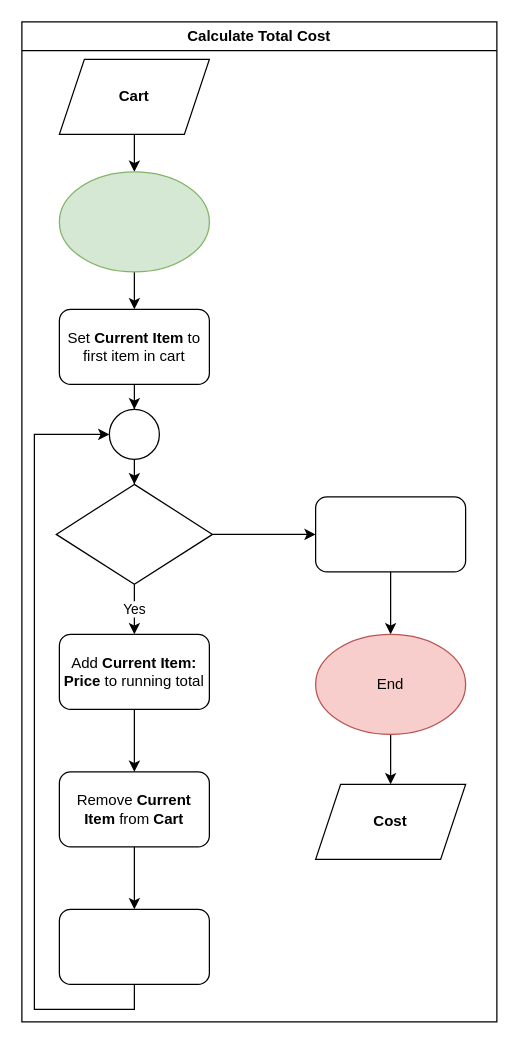
Some shapes in this 519 by 1044 pixel diagram are drawn without their labels. The box of each missing label's shape, as (x1, y1, x2, y2) in pixels:
Is there a Current Item?: (55, 483, 212, 584)
Set Cost to Running Total: (314, 496, 466, 572)
Set Current Item to next item in Cart: (58, 908, 209, 984)
Start: (58, 171, 209, 272)
